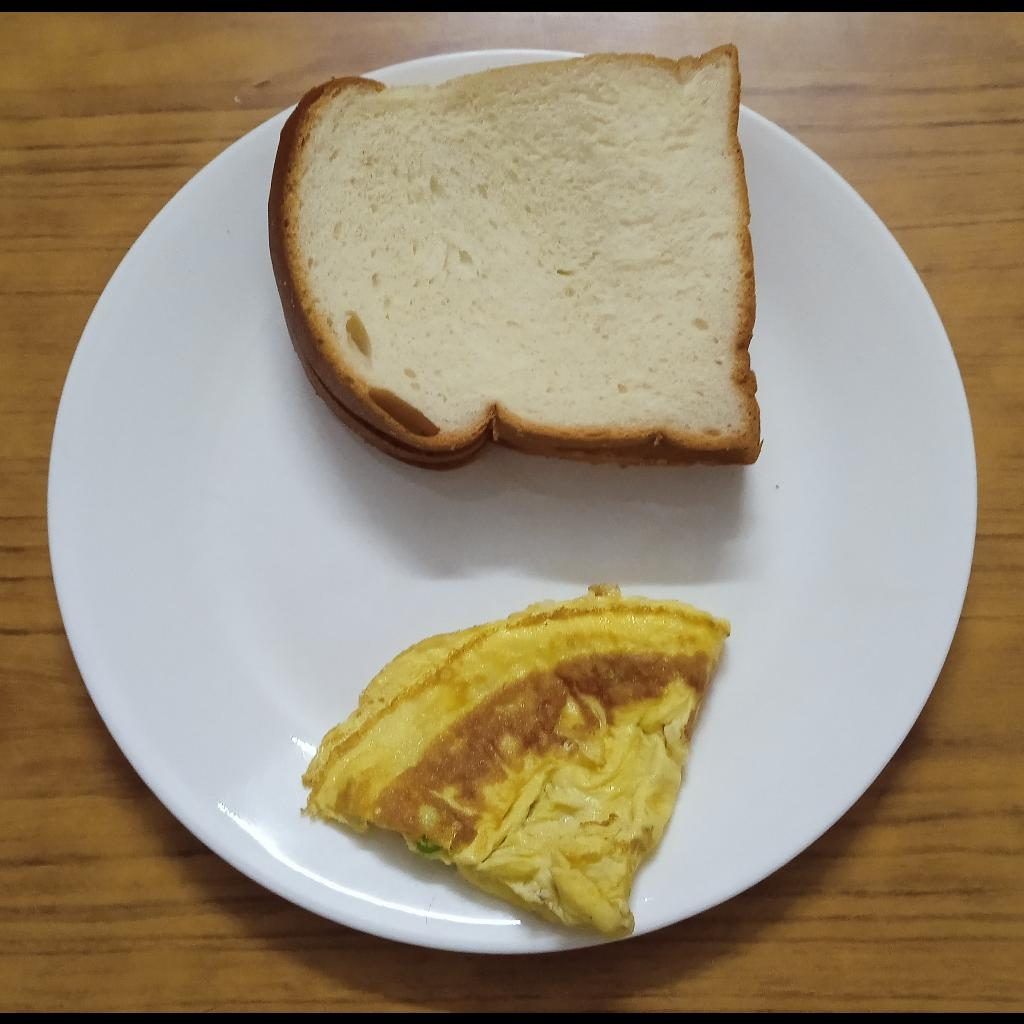bread: (269, 40, 760, 473)
egg-poached: (300, 584, 730, 937)
